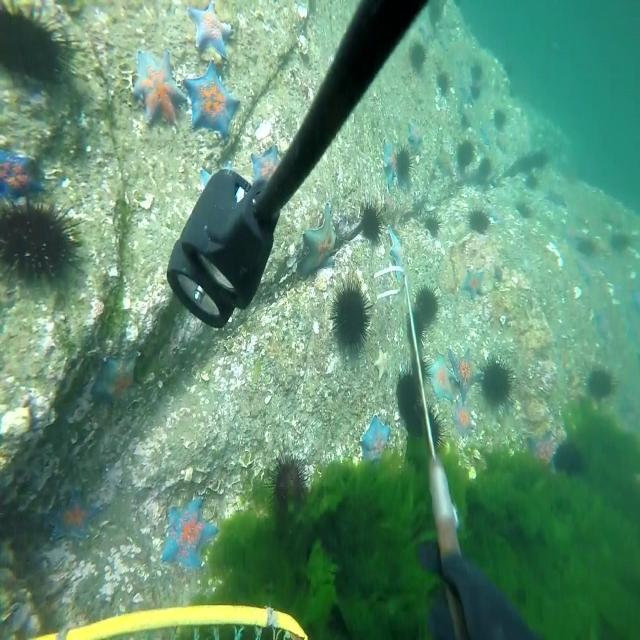echinus: (0, 193, 86, 288), (0, 0, 84, 92), (328, 271, 377, 355), (261, 444, 310, 520), (479, 349, 518, 412), (396, 359, 423, 417), (413, 276, 443, 328), (357, 196, 389, 244), (552, 435, 586, 478), (586, 365, 618, 407), (421, 406, 448, 454), (406, 398, 429, 439), (393, 141, 416, 181), (411, 353, 436, 389), (466, 204, 494, 234), (406, 308, 427, 347), (408, 39, 429, 73), (458, 137, 477, 171), (426, 1, 448, 29), (423, 209, 444, 238), (610, 230, 631, 257), (578, 236, 597, 258), (492, 107, 508, 132), (437, 70, 451, 98), (477, 156, 491, 178), (534, 149, 548, 169), (471, 62, 484, 82), (518, 200, 530, 220), (525, 172, 538, 190), (520, 155, 531, 174), (470, 84, 481, 101), (503, 62, 513, 79), (461, 114, 468, 128)
starfish: (182, 55, 242, 139), (160, 492, 219, 574), (131, 46, 187, 128), (298, 200, 338, 280), (45, 487, 103, 542), (186, 0, 236, 55), (0, 144, 45, 204), (198, 156, 252, 205), (92, 352, 138, 406), (448, 343, 483, 406), (357, 411, 393, 466), (426, 350, 459, 406), (249, 140, 284, 186), (526, 427, 556, 467), (387, 225, 406, 284), (602, 251, 628, 292), (381, 135, 398, 193), (450, 398, 472, 438), (461, 266, 485, 300), (373, 344, 391, 384), (624, 310, 640, 345), (407, 120, 423, 154), (548, 181, 568, 208), (596, 309, 611, 342), (577, 257, 592, 282), (562, 226, 577, 250), (495, 132, 510, 154), (419, 23, 434, 43), (460, 67, 474, 86), (489, 207, 505, 223), (460, 85, 473, 104), (481, 123, 492, 145), (632, 288, 640, 309)
